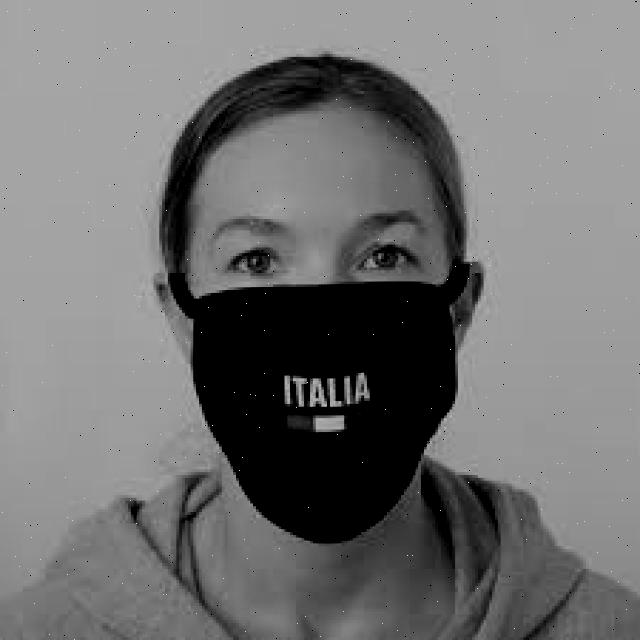fake: (129, 269, 499, 553)
real: (187, 112, 455, 555)
